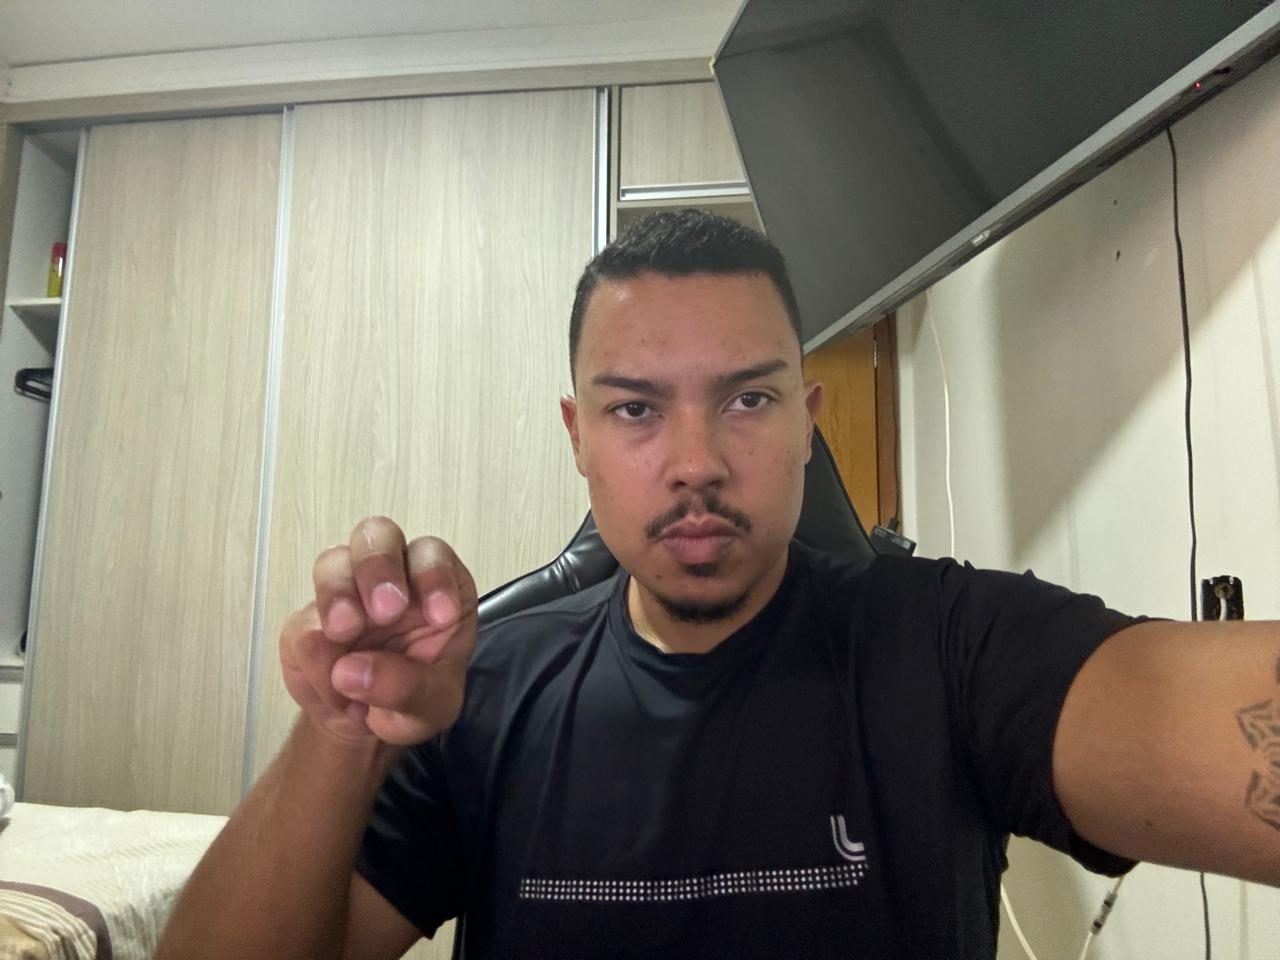m: (269, 512, 483, 750)
